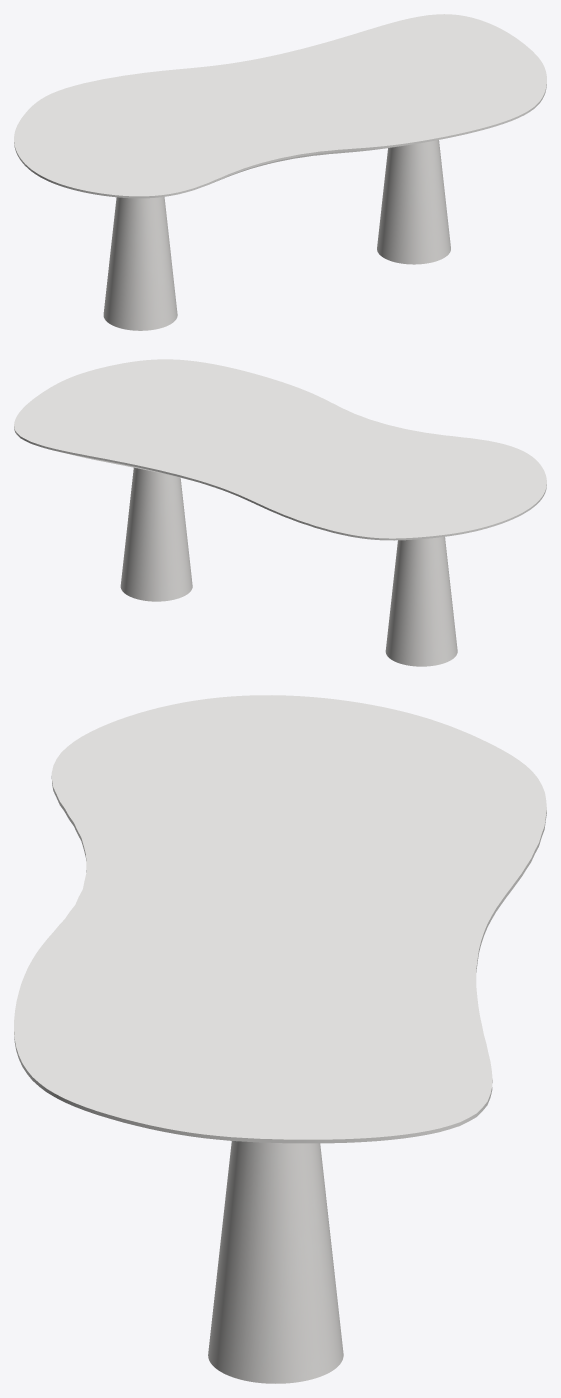
File: purewhite_wave_facet_pebble.glb
The picture shows the model from 3 angles, top to bottom: view 1: azimuth 30°, elevation 25°; view 2: azimuth 150°, elevation 25°; view 3: azimuth 270°, elevation 25°; orthographic projection. The views are drawn at different scales.
Parts seen in each view (by area): view 1: facet_wave, pebble; view 2: facet_wave, pebble; view 3: facet_wave, pebble.
Part boxes in pixels (x1,y1,x2,y2): facet_wave: [14, 14, 546, 198]; pebble: [103, 140, 450, 330]; facet_wave: [14, 359, 546, 540]; pebble: [120, 467, 457, 666]; facet_wave: [14, 695, 546, 1143]; pebble: [208, 1141, 343, 1383].
Bounding box in the file's own units: 7.5 × 2.5 × 3.8.
Materials: 1 (1 with a texture image).
